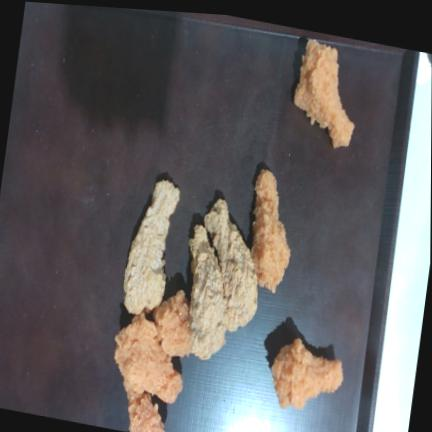chicken: (123, 179, 179, 314), (204, 199, 257, 331), (294, 40, 354, 147), (115, 314, 182, 403), (271, 338, 343, 408), (189, 225, 225, 359), (251, 169, 290, 292), (153, 290, 191, 356), (127, 393, 164, 432)
